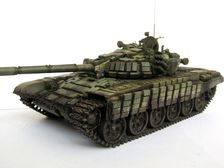t72: (2, 41, 224, 147)
